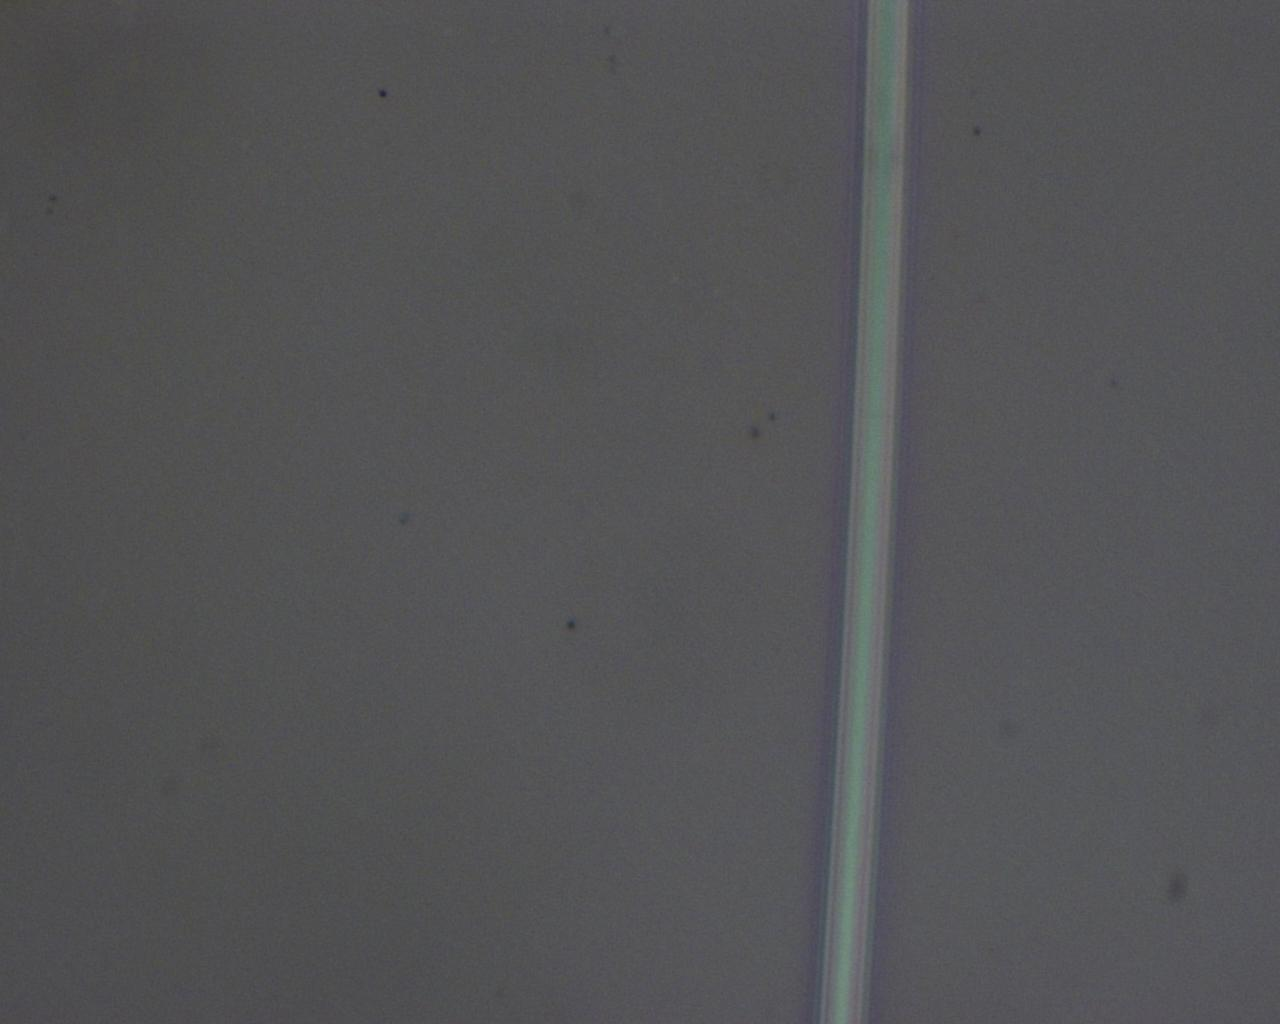fiber: (818, 0, 918, 1024)
